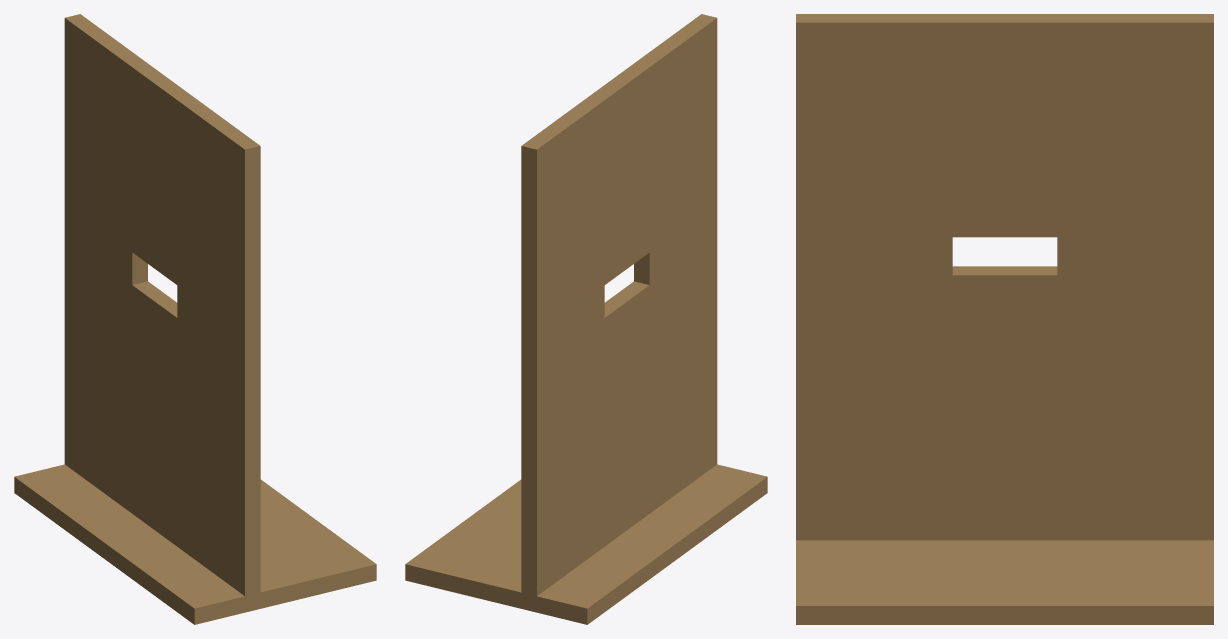
The model's file is suporte.glb.
The picture shows the model from 3 angles, left to right: view 1: azimuth 30°, elevation 25°; view 2: azimuth 150°, elevation 25°; view 3: azimuth 270°, elevation 25°; orthographic projection. The views are drawn at different scales.
Parts seen in each view (by area): view 1: suporte_A, pe_sensor_A; view 2: suporte_A, pe_sensor_A; view 3: suporte_A, pe_sensor_A.
Part boxes in pixels (x1,y1,x2,y2): suporte_A: [64, 14, 260, 612]; pe_sensor_A: [14, 464, 376, 624]; suporte_A: [521, 14, 717, 611]; pe_sensor_A: [405, 464, 767, 624]; suporte_A: [796, 14, 1213, 540]; pe_sensor_A: [796, 540, 1213, 624].
Bounding box in the file's own units: 0.035 × 0.085 × 0.06.
